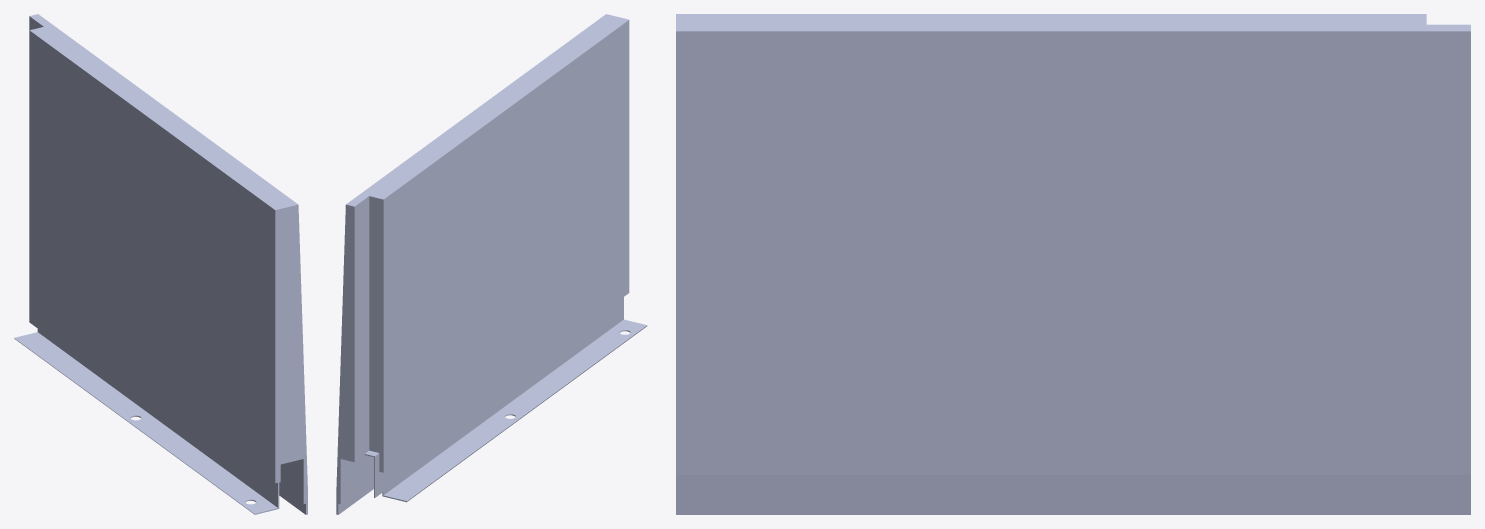
The model's file is mv-kava-E300-m.glb.
The picture shows the model from 3 angles, left to right: view 1: azimuth 30°, elevation 25°; view 2: azimuth 150°, elevation 25°; view 3: azimuth 270°, elevation 25°; orthographic projection. The views are drawn at different scales.
Visible parts, largest first — view 1: 49855863; view 2: 49855863; view 3: 49855863.
Boxes of the visible parts, x1=… form: 49855863: x1=14, y1=14, x2=307, y2=514; 49855863: x1=336, y1=14, x2=647, y2=514; 49855863: x1=676, y1=14, x2=1470, y2=514.
Bounding box in the file's own units: 0.0335 × 0.192 × 0.2902.
